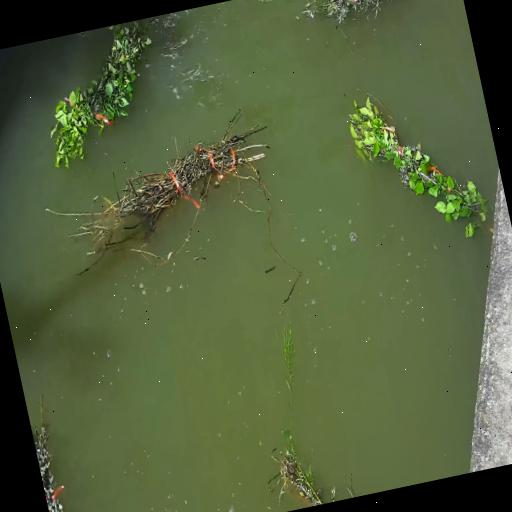twig: (56, 109, 269, 262), (349, 96, 485, 220), (50, 26, 149, 168), (268, 322, 322, 506), (32, 394, 65, 512), (301, 0, 389, 23)
